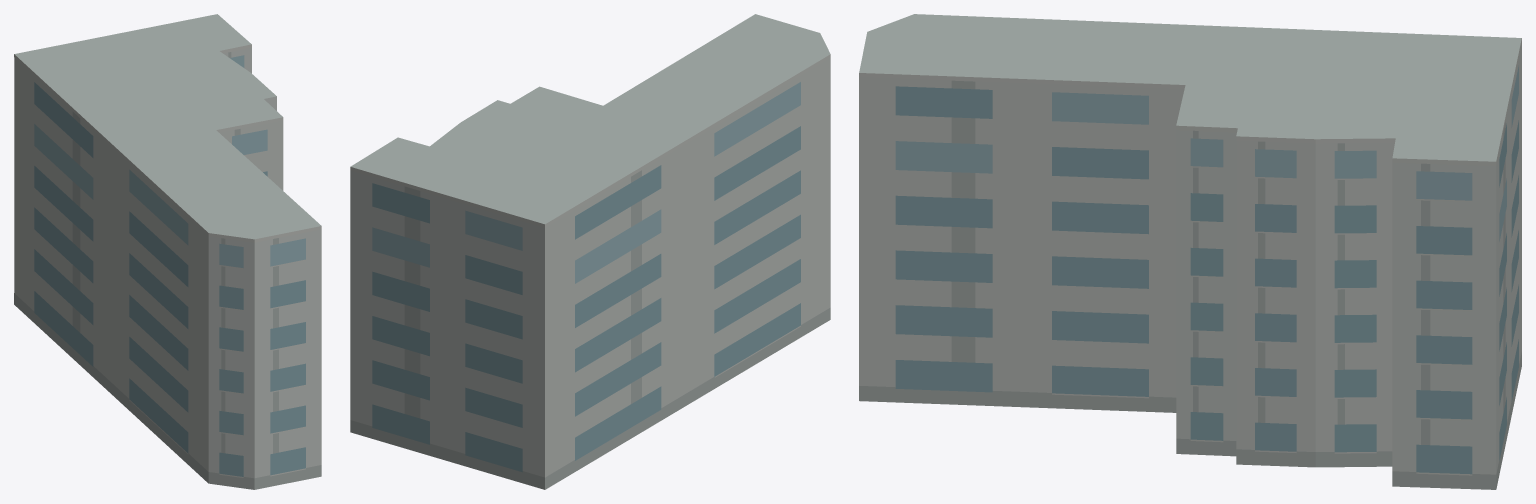
Rendered from survey-upis-32990179.glb.
3 renders of one model, left to right at view 1: azimuth 30°, elevation 25°; view 2: azimuth 150°, elevation 25°; view 3: azimuth 270°, elevation 25°, orthographic. The views are drawn at different scales.
Parts seen in each view (by area): view 1: survey-upis-32990179.tmp; view 2: survey-upis-32990179.tmp; view 3: survey-upis-32990179.tmp.
Part boxes in pixels (box(x1,y1,x2,y2)): survey-upis-32990179.tmp: box(14, 14, 321, 489); survey-upis-32990179.tmp: box(350, 14, 830, 489); survey-upis-32990179.tmp: box(859, 14, 1521, 489).
Bounding box in the file's own units: 17.67 × 18.3 × 33.5.
